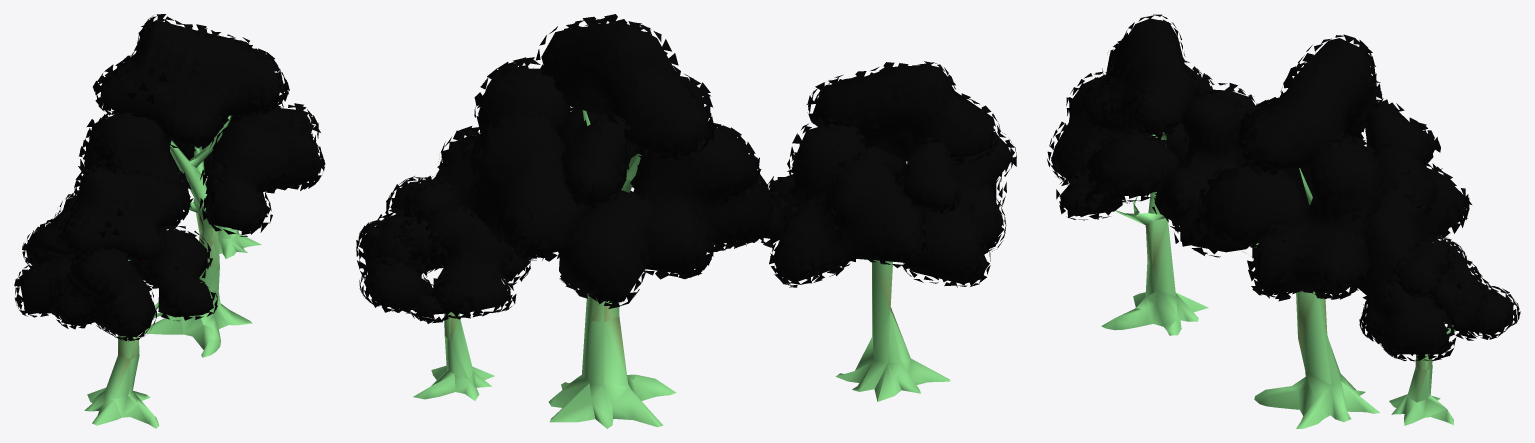
File: SM_ENV_LKNVLD_TreeSet_K_Lod3.gltf
The picture shows the model from 3 angles, left to right: view 1: azimuth 30°, elevation 25°; view 2: azimuth 150°, elevation 25°; view 3: azimuth 270°, elevation 25°; orthographic projection. The views are drawn at different scales.
Visible parts, largest first — view 1: SM_ENV_LKNVLD_TreeSet_K_Lod3; view 2: SM_ENV_LKNVLD_TreeSet_K_Lod3; view 3: SM_ENV_LKNVLD_TreeSet_K_Lod3.
Boxes of the visible parts, x1,y1,x2,y2 form: SM_ENV_LKNVLD_TreeSet_K_Lod3: (14,14,325,428); SM_ENV_LKNVLD_TreeSet_K_Lod3: (356,14,1016,428); SM_ENV_LKNVLD_TreeSet_K_Lod3: (1047,14,1520,428).
Bounding box in the file's own units: 22.05 × 17.2 × 20.58.
